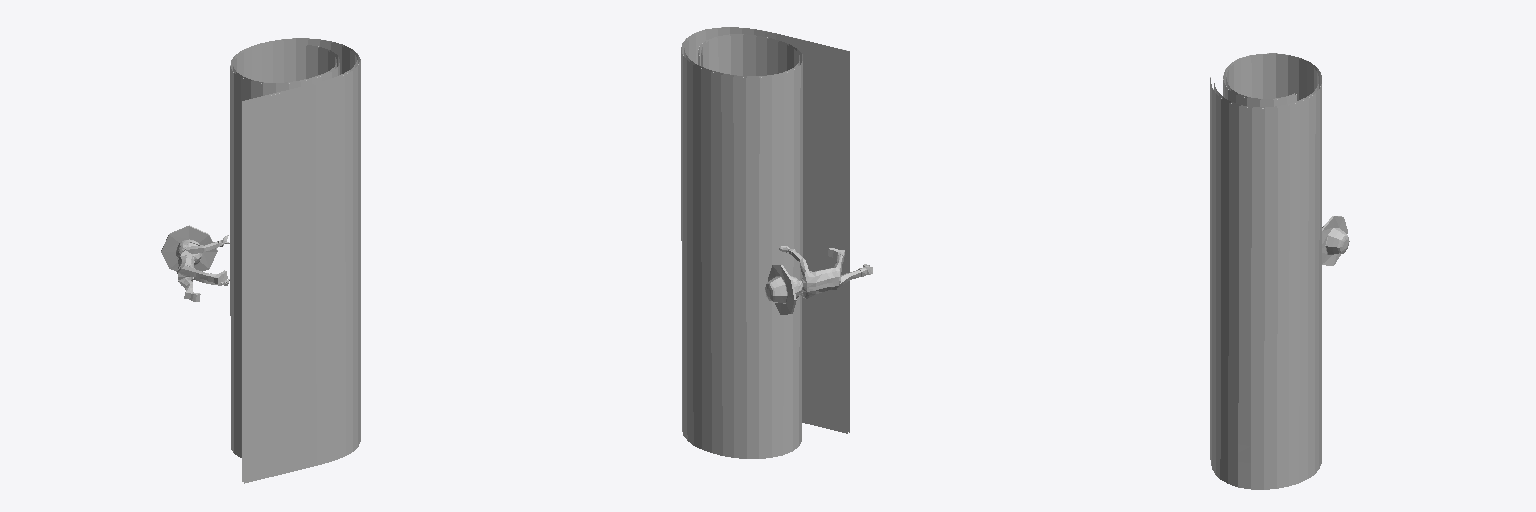
Rendered from start_file2_000021.obj.
The picture shows the model from 3 angles: view 1: azimuth 30°, elevation 25°; view 2: azimuth 150°, elevation 25°; view 3: azimuth 270°, elevation 25°; orthographic projection.
Visible parts, largest first — view 1: Cube_Cube.001, Character_Cube; view 2: Cube_Cube.001, Character_Cube; view 3: Cube_Cube.001, Character_Cube.
Boxes of the visible parts, x1=… form: Cube_Cube.001: x1=230, y1=38, x2=360, y2=483; Character_Cube: x1=161, y1=225, x2=229, y2=301; Cube_Cube.001: x1=681, y1=27, x2=849, y2=458; Character_Cube: x1=765, y1=246, x2=872, y2=314; Cube_Cube.001: x1=1210, y1=53, x2=1321, y2=489; Character_Cube: x1=1322, y1=216, x2=1349, y2=265.
Size of the model in its own units: 0.743 by 1.52 by 0.5044.